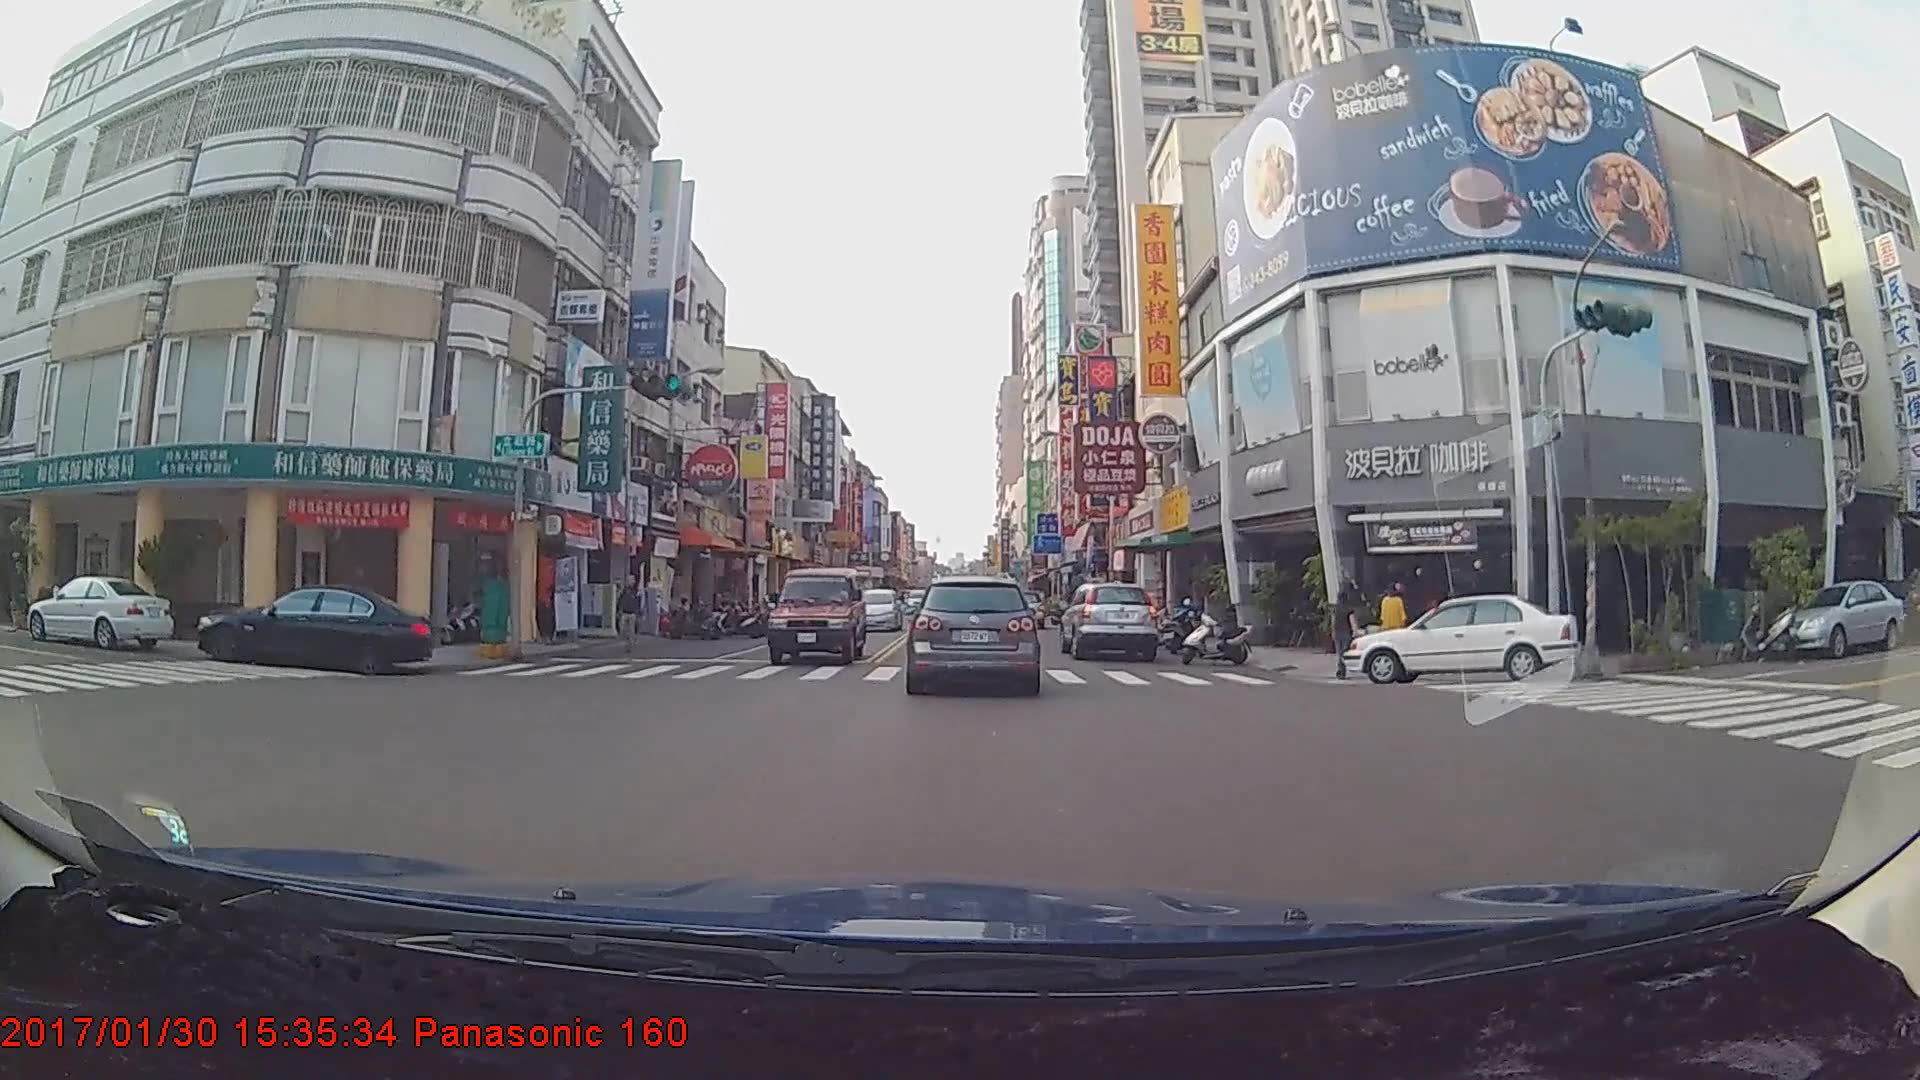pedestrian: (1330, 594, 1363, 684), (1379, 585, 1413, 668), (615, 576, 645, 652)
vehicle: (194, 580, 432, 674), (1339, 593, 1579, 684), (908, 577, 1037, 693), (25, 575, 173, 654), (764, 564, 866, 665), (1772, 579, 1901, 658), (1057, 579, 1159, 662), (852, 587, 904, 631)
